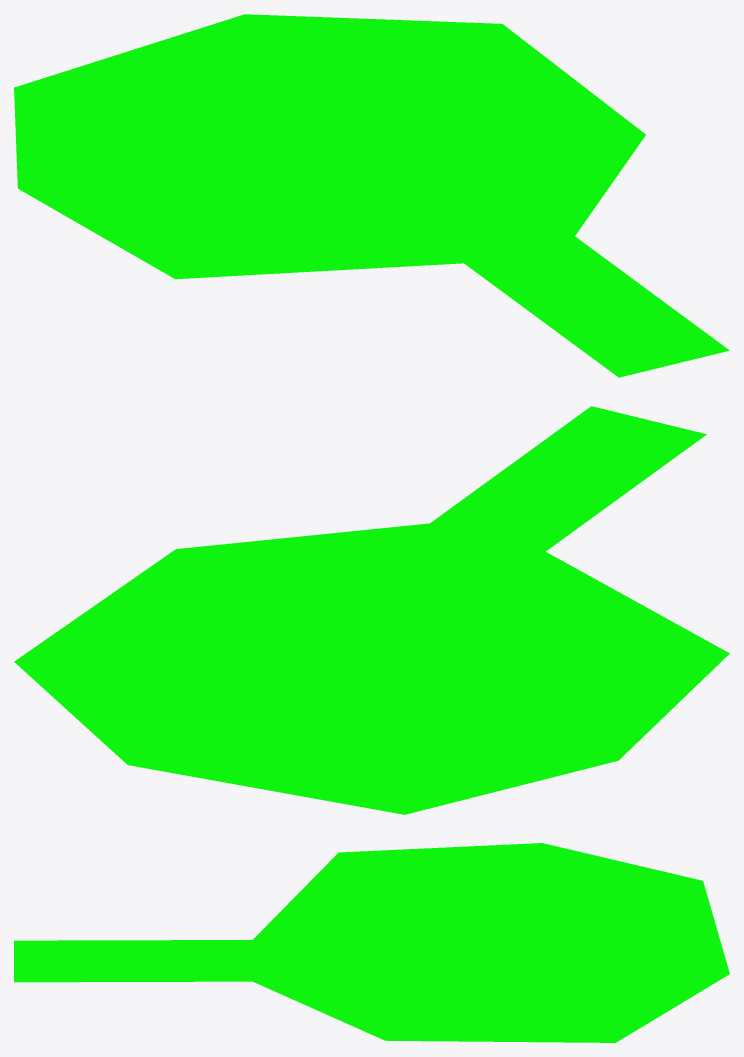
The model's file is s03a_na1-floor.glb.
The picture shows the model from 3 angles, top to bottom: view 1: azimuth 30°, elevation 25°; view 2: azimuth 150°, elevation 25°; view 3: azimuth 270°, elevation 25°; orthographic projection. The views are drawn at different scales.
Parts seen in each view (by area): view 1: collision_floor-colonly; view 2: collision_floor-colonly; view 3: collision_floor-colonly.
Part boxes in pixels (x1,y1,x2,y2): collision_floor-colonly: (14, 14, 729, 377); collision_floor-colonly: (14, 406, 729, 814); collision_floor-colonly: (14, 843, 729, 1042).
Bounding box in the file's own units: 28.75 × 0.0469 × 43.5.
